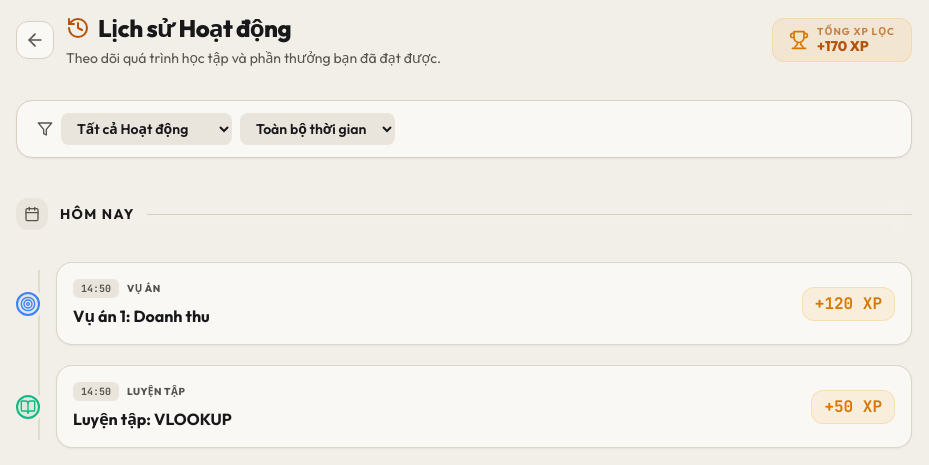
Test: ActivityHistoryPage Component Tests › lọc lịch sử theo loại hoạt động (Vụ án / Luyện tập)
Expected: the heading "Vụ án 1: Doanh thu" is shown, x1=73 y1=304 x2=210 y2=328
Select "🎯 Vụ án cốt truyện" in the 1st dropdown at [146, 129], box x1=61 y1=113 x2=232 y2=145
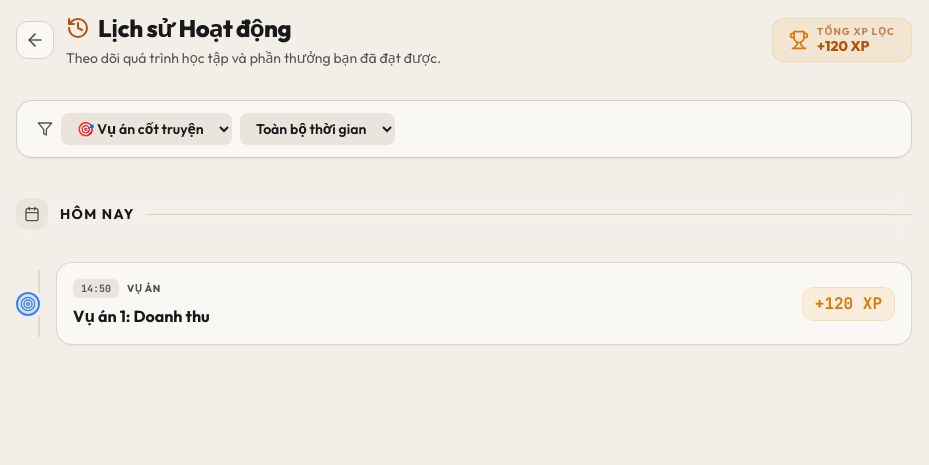
Expected: the heading "Vụ án 1: Doanh thu" is shown, x1=73 y1=304 x2=210 y2=328
Now the heading "Luyện tập: VLOOKUP" is gone
